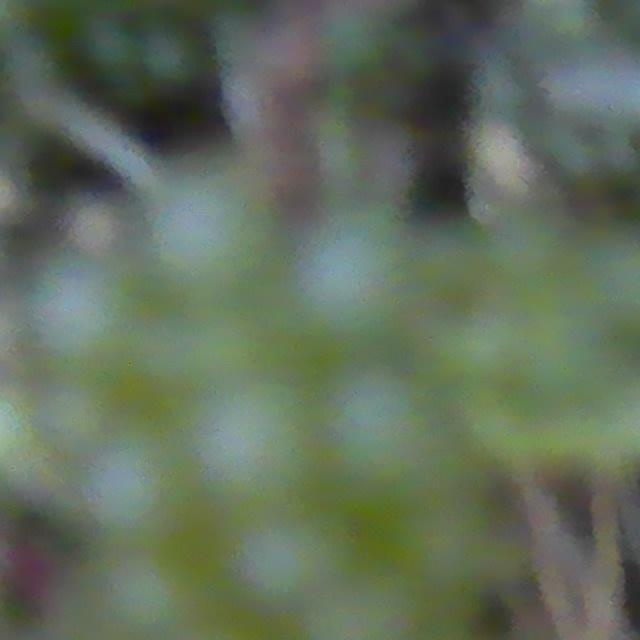SeaGrape: (123, 176, 294, 324), (330, 386, 469, 551), (187, 387, 318, 527), (290, 234, 427, 360), (2, 265, 128, 369), (80, 434, 182, 537), (26, 383, 139, 467), (106, 548, 203, 639), (135, 23, 204, 89), (60, 200, 122, 259), (0, 207, 58, 262), (20, 227, 78, 282)
